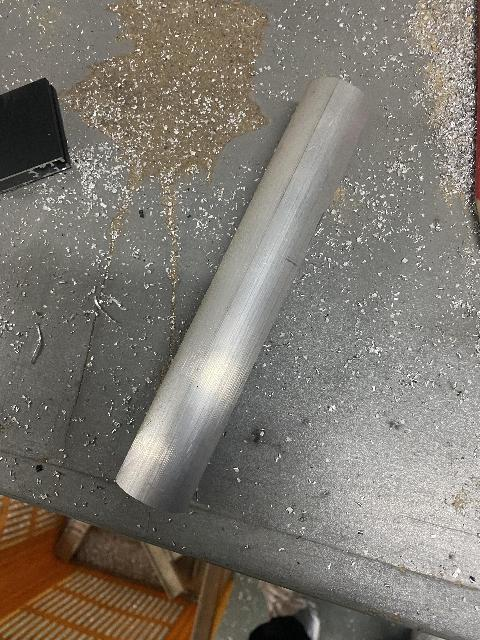Metal: (94, 52, 389, 541), (0, 75, 71, 195)
